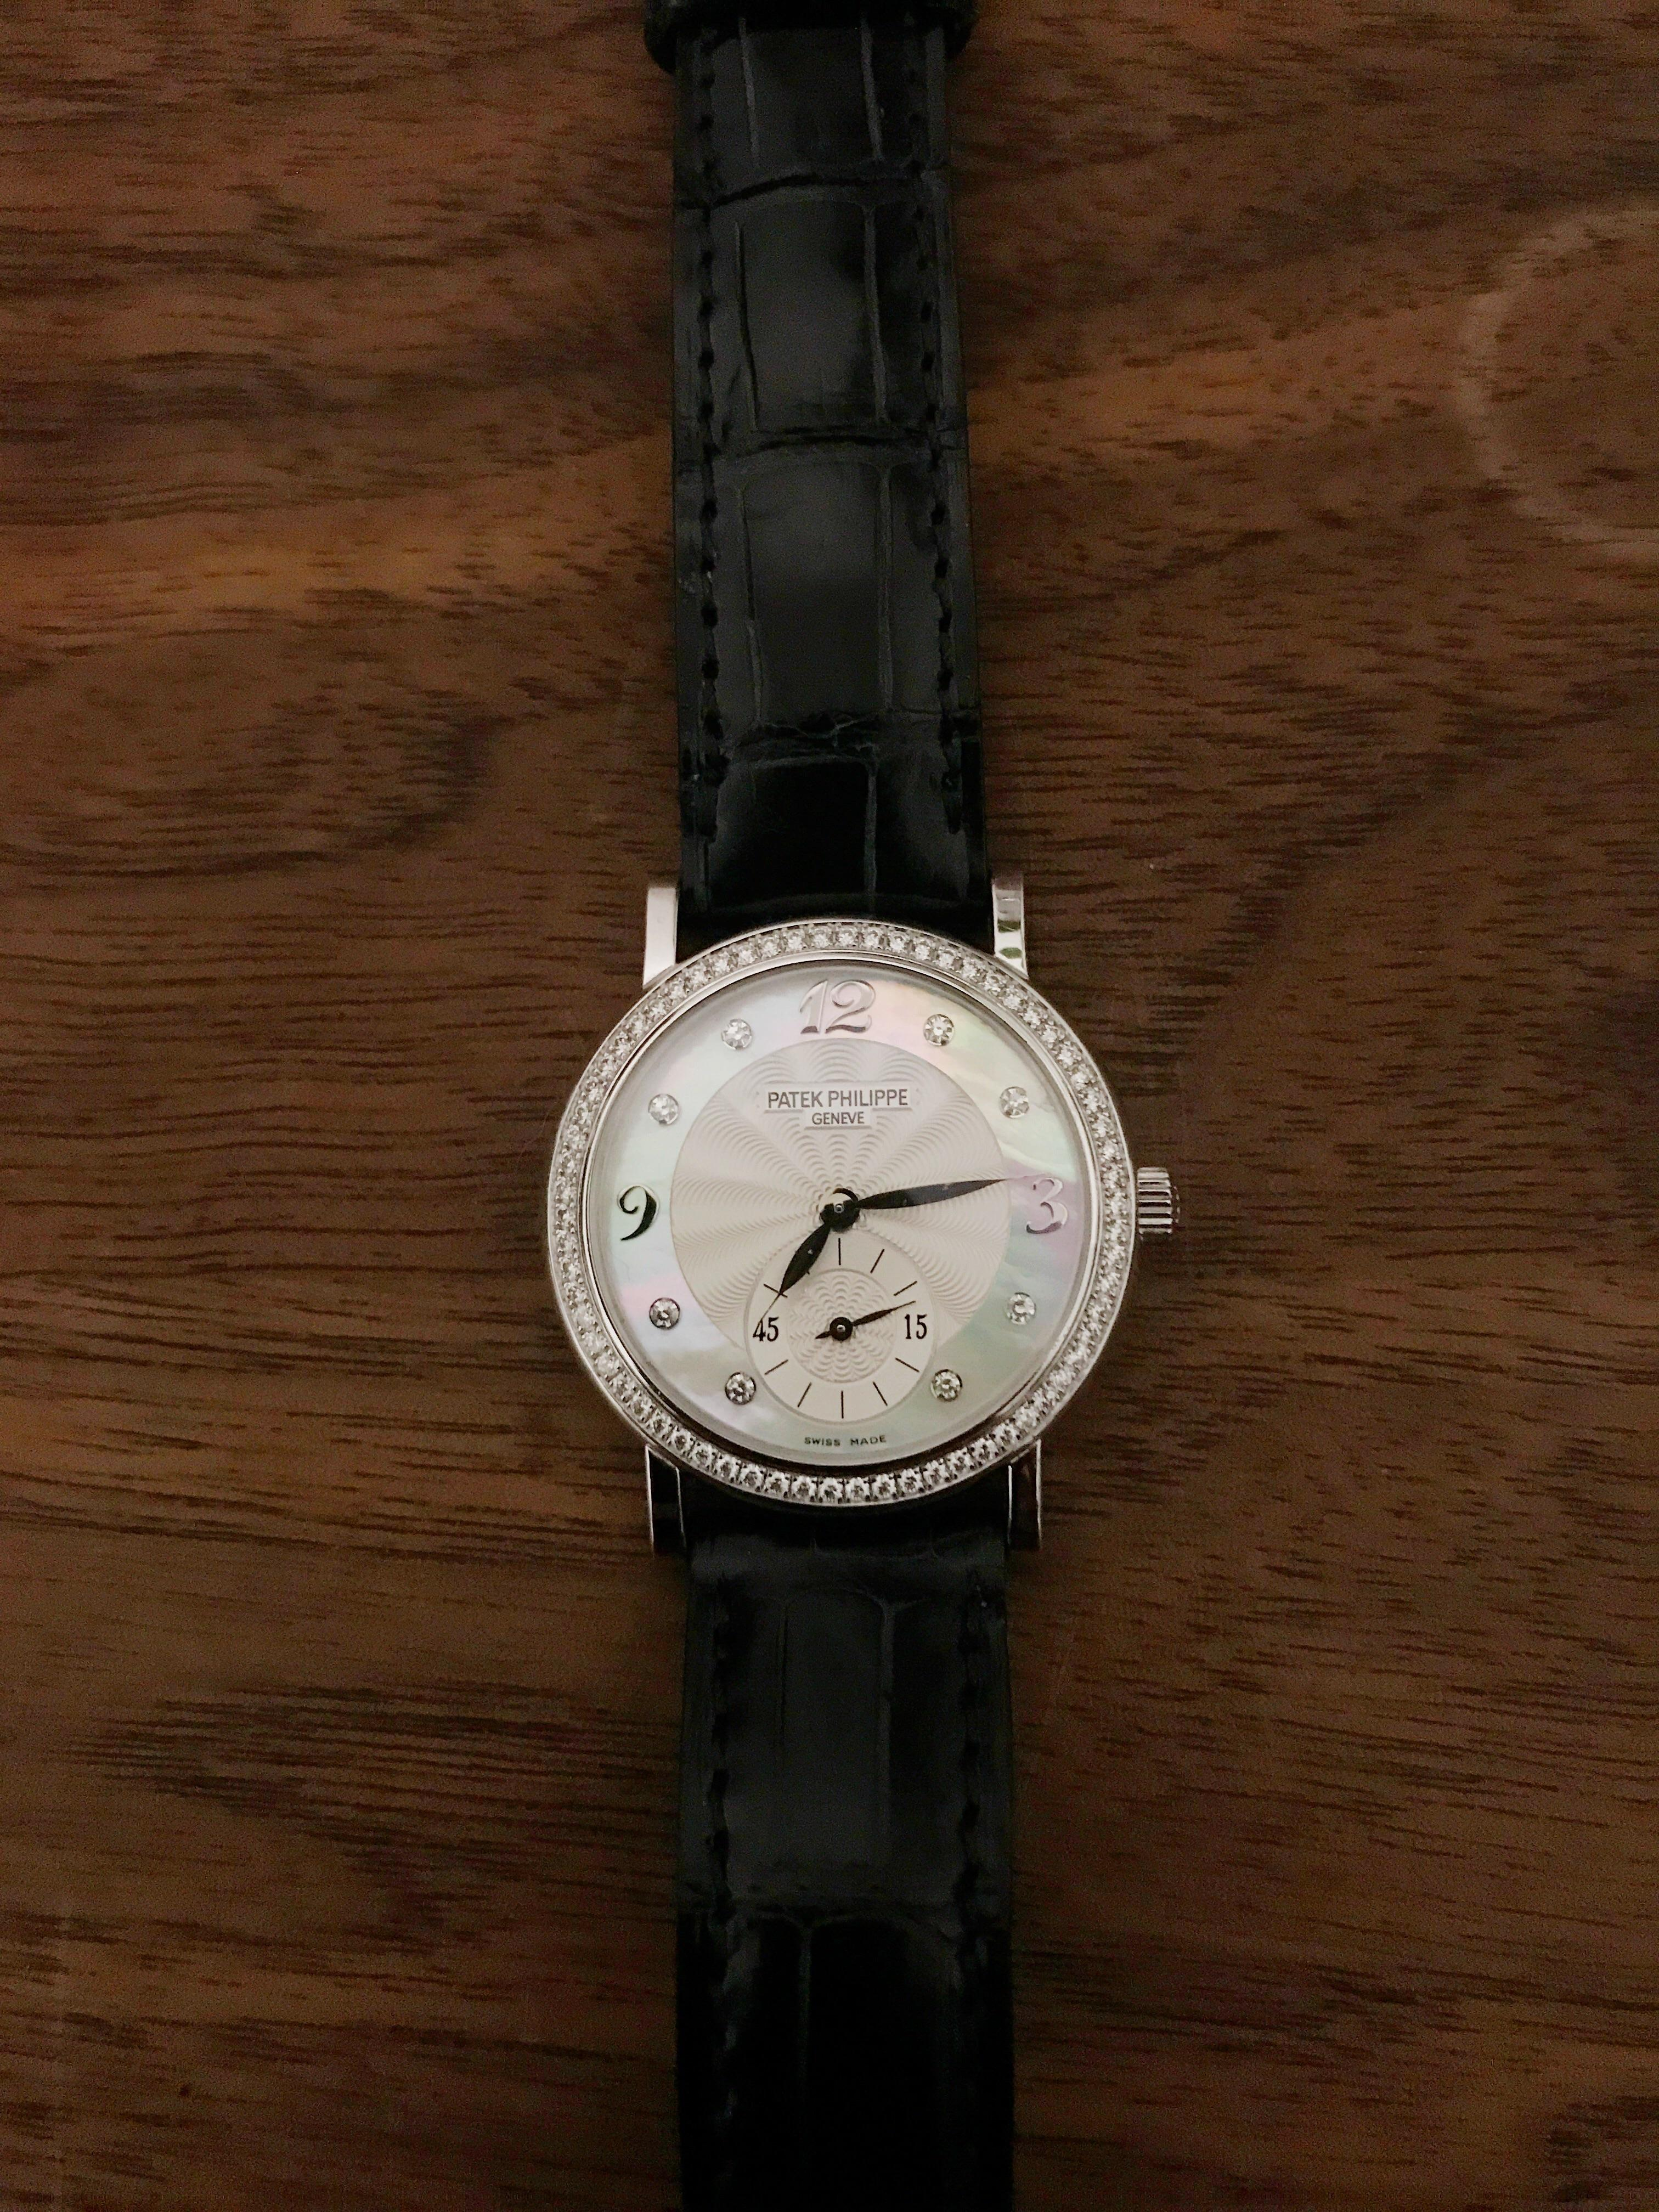clock: (582, 967, 1100, 1477)
